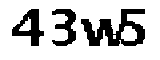3: (49, 6, 76, 48)
4: (9, 5, 47, 50)
5: (124, 6, 150, 56)
w: (79, 15, 121, 49)
